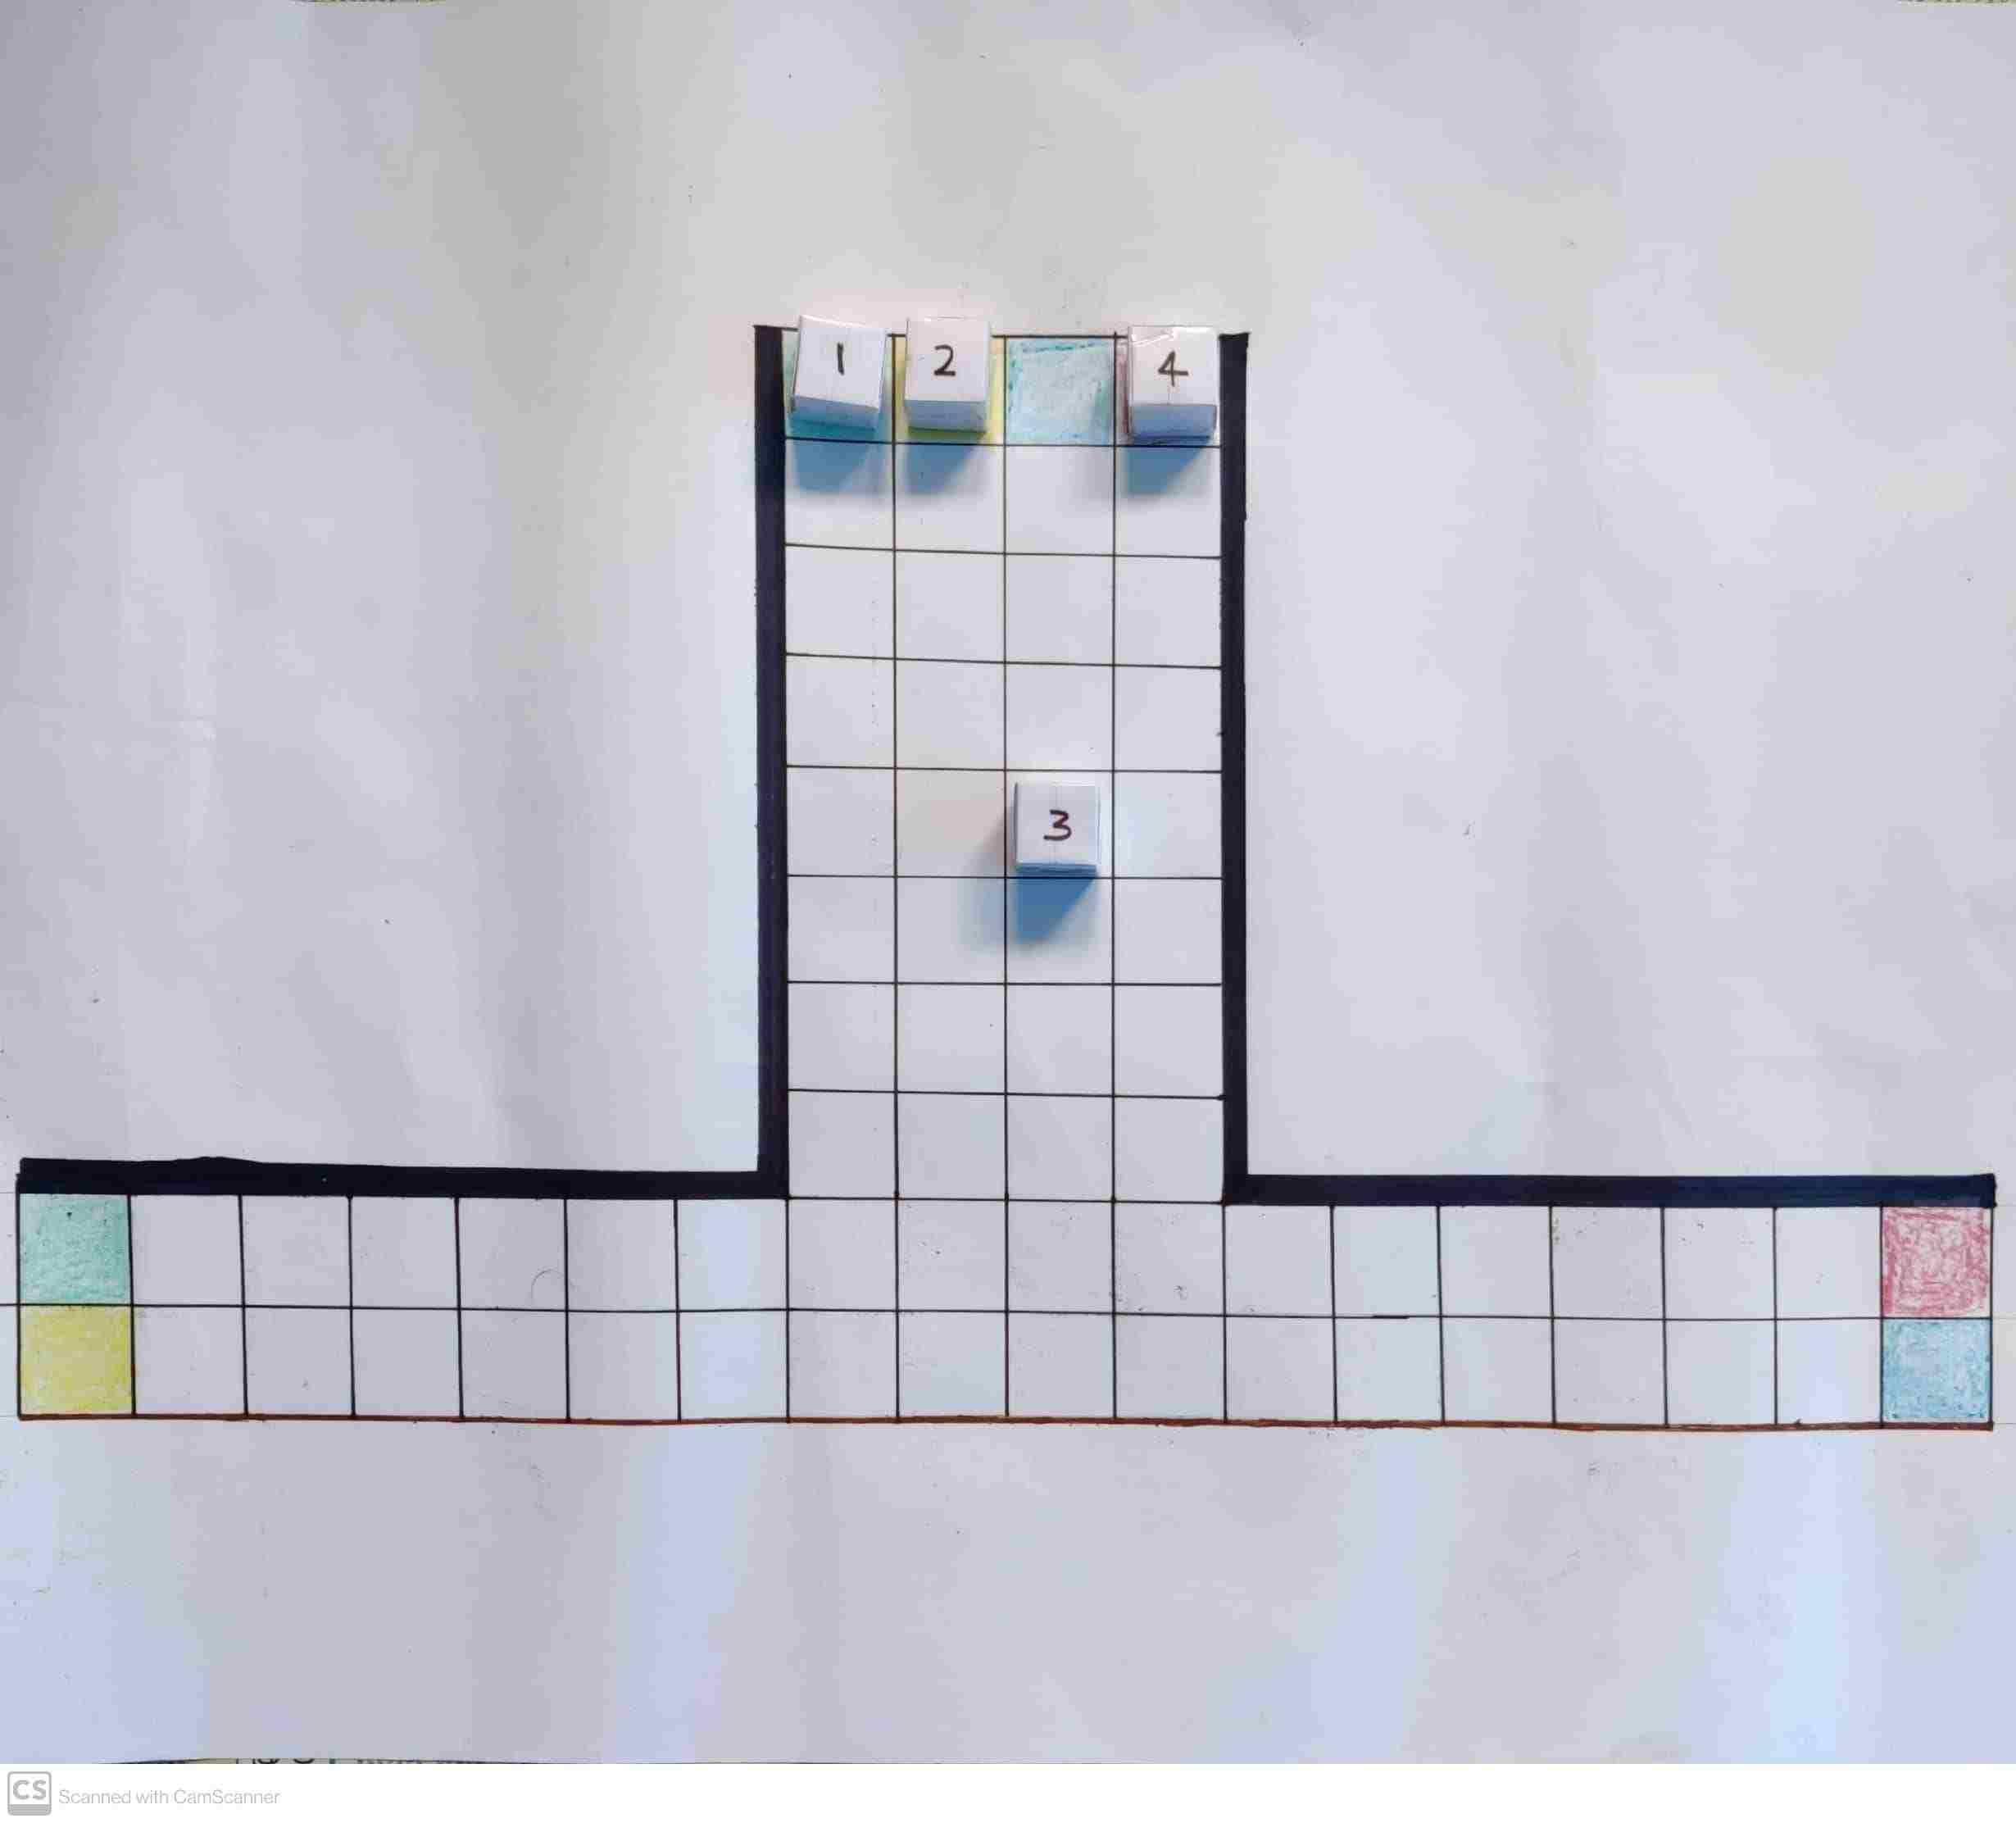arena: (12, 325, 1993, 1426)
bot: (799, 316, 883, 402), (910, 325, 992, 402), (1129, 332, 1217, 402), (1020, 785, 1098, 864)
